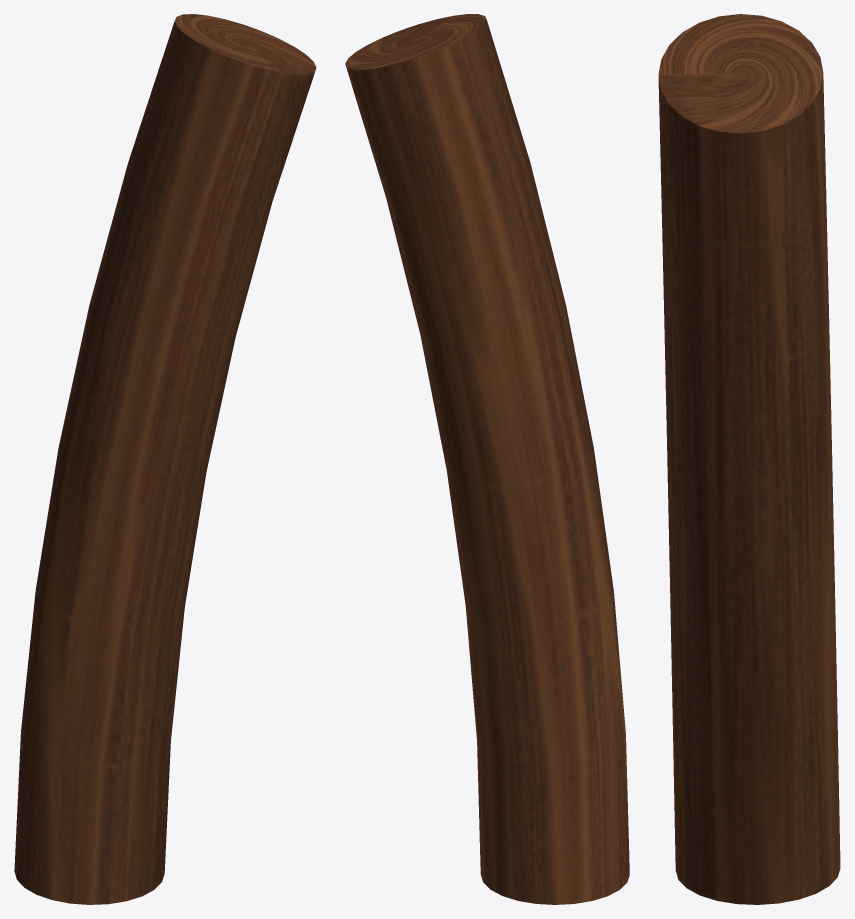
File: palm-tree-trunk.obj
The picture shows the model from 3 angles, left to right: view 1: azimuth 30°, elevation 25°; view 2: azimuth 150°, elevation 25°; view 3: azimuth 270°, elevation 25°; orthographic projection. The views are drawn at different scales.
Parts seen in each view (by area): view 1: Cylinder; view 2: Cylinder; view 3: Cylinder.
Part boxes in pixels (x1,y1,x2,y2): Cylinder: [14, 14, 316, 904]; Cylinder: [345, 14, 629, 904]; Cylinder: [658, 14, 840, 904].
Bounding box in the file's own units: 2.1 × 6.05 × 1.1.
1 material, 1 textured.
